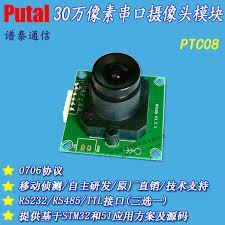tutu: (90, 49, 154, 129)
